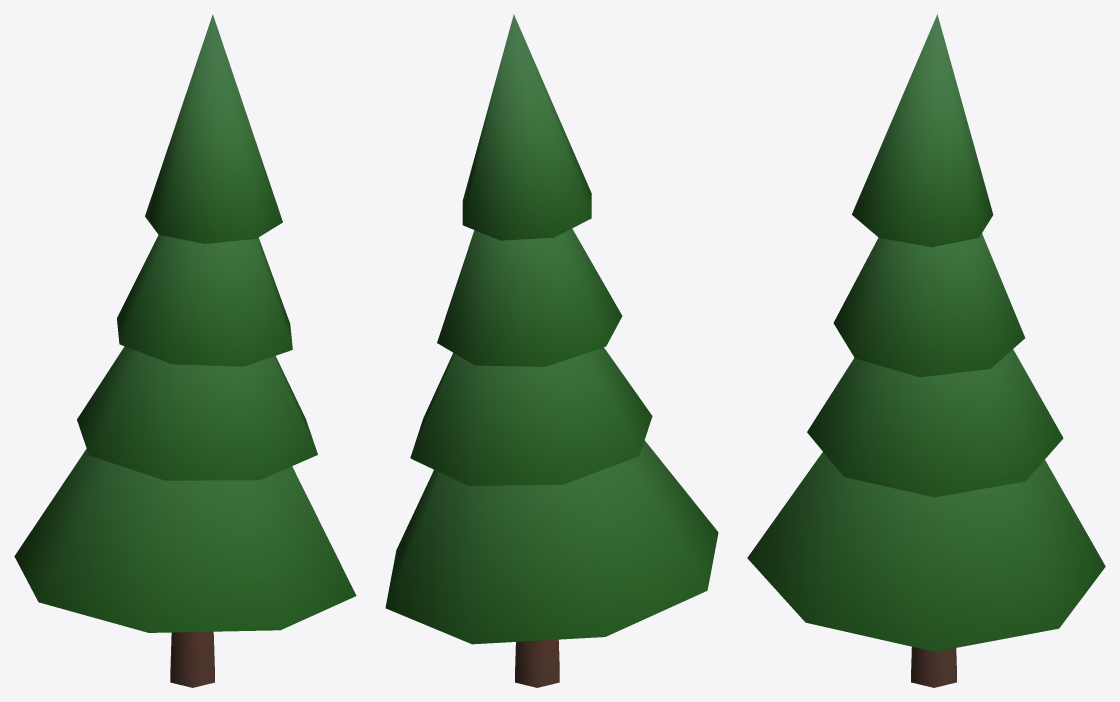
File: nature_pine_tree_02_mdl.fbx
3 views of the same model, side by side, from view 1: azimuth 30°, elevation 25°; view 2: azimuth 150°, elevation 25°; view 3: azimuth 270°, elevation 25° (orthographic). The views are drawn at different scales.
Visible parts, largest first — view 1: pine_tree_02_mdl; view 2: pine_tree_02_mdl; view 3: pine_tree_02_mdl.
Part boxes in pixels (bbox=[...]): pine_tree_02_mdl: bbox=[14, 14, 356, 687]; pine_tree_02_mdl: bbox=[385, 14, 718, 687]; pine_tree_02_mdl: bbox=[747, 14, 1105, 687].
Size of the model in its own units: 194 by 404 by 195.
